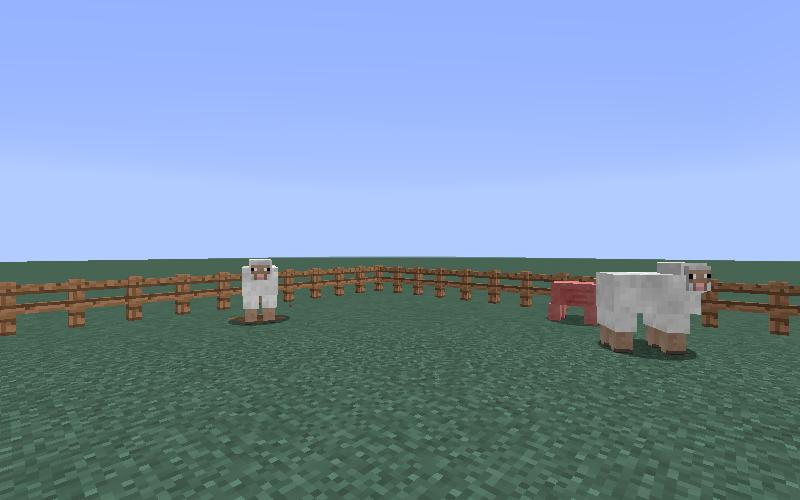pig: (546, 281, 596, 330)
sheep: (591, 256, 716, 366), (239, 254, 281, 326)
